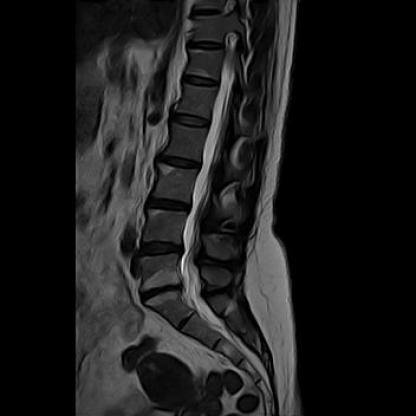Disc Bulgerotation: (138, 239, 186, 259), (140, 282, 184, 300)
